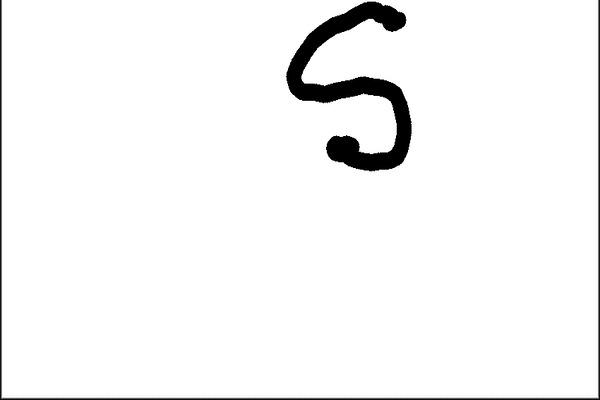S: (275, 1, 431, 181)
